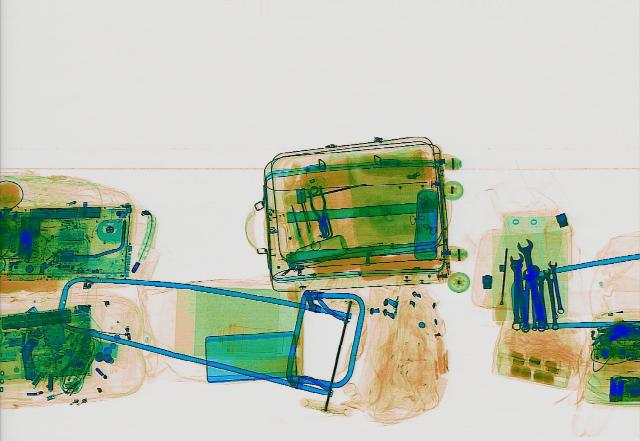Pliers: (304, 185, 336, 236)
Wrench: (514, 237, 554, 328), (506, 252, 532, 329), (547, 260, 567, 313)
